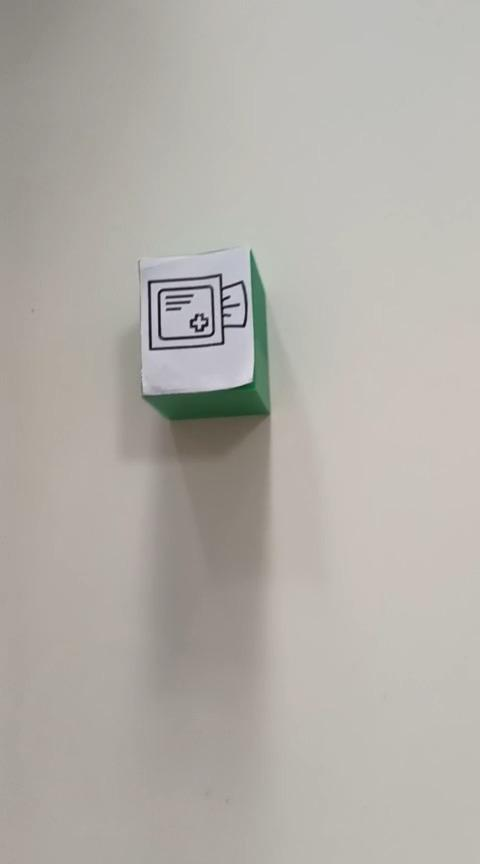Gauze: (136, 243, 270, 420)
